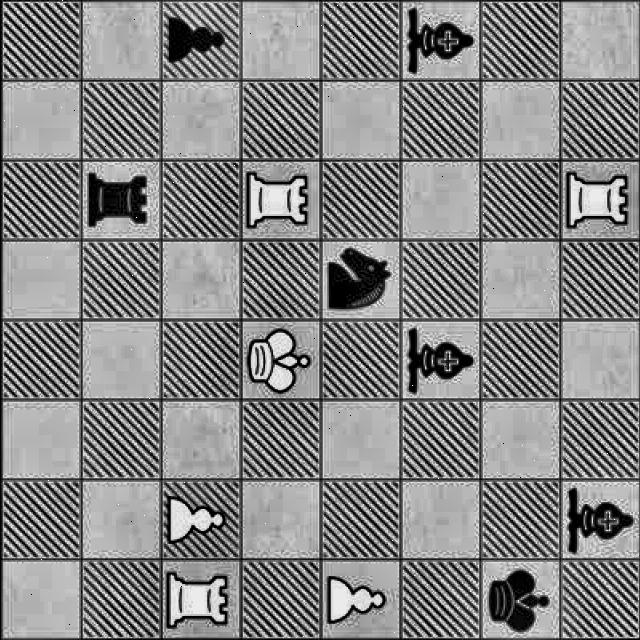Black Knight: (308, 241, 394, 308)
black bishop: (391, 317, 477, 401), (400, 2, 482, 82), (558, 486, 636, 554)
black king: (476, 560, 556, 636)
black pawn: (163, 15, 229, 69)
black rook: (84, 168, 150, 234)
white king: (246, 327, 316, 399)
white pawn: (321, 572, 392, 632), (163, 492, 229, 552)
white rook: (560, 163, 634, 234), (246, 171, 324, 236), (160, 566, 232, 636)
